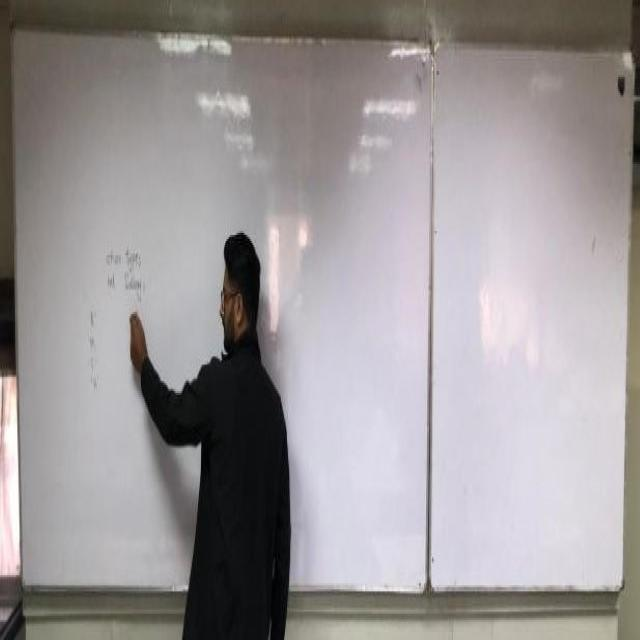Instructor: (199, 217, 291, 640)
White-board: (15, 26, 635, 589)
